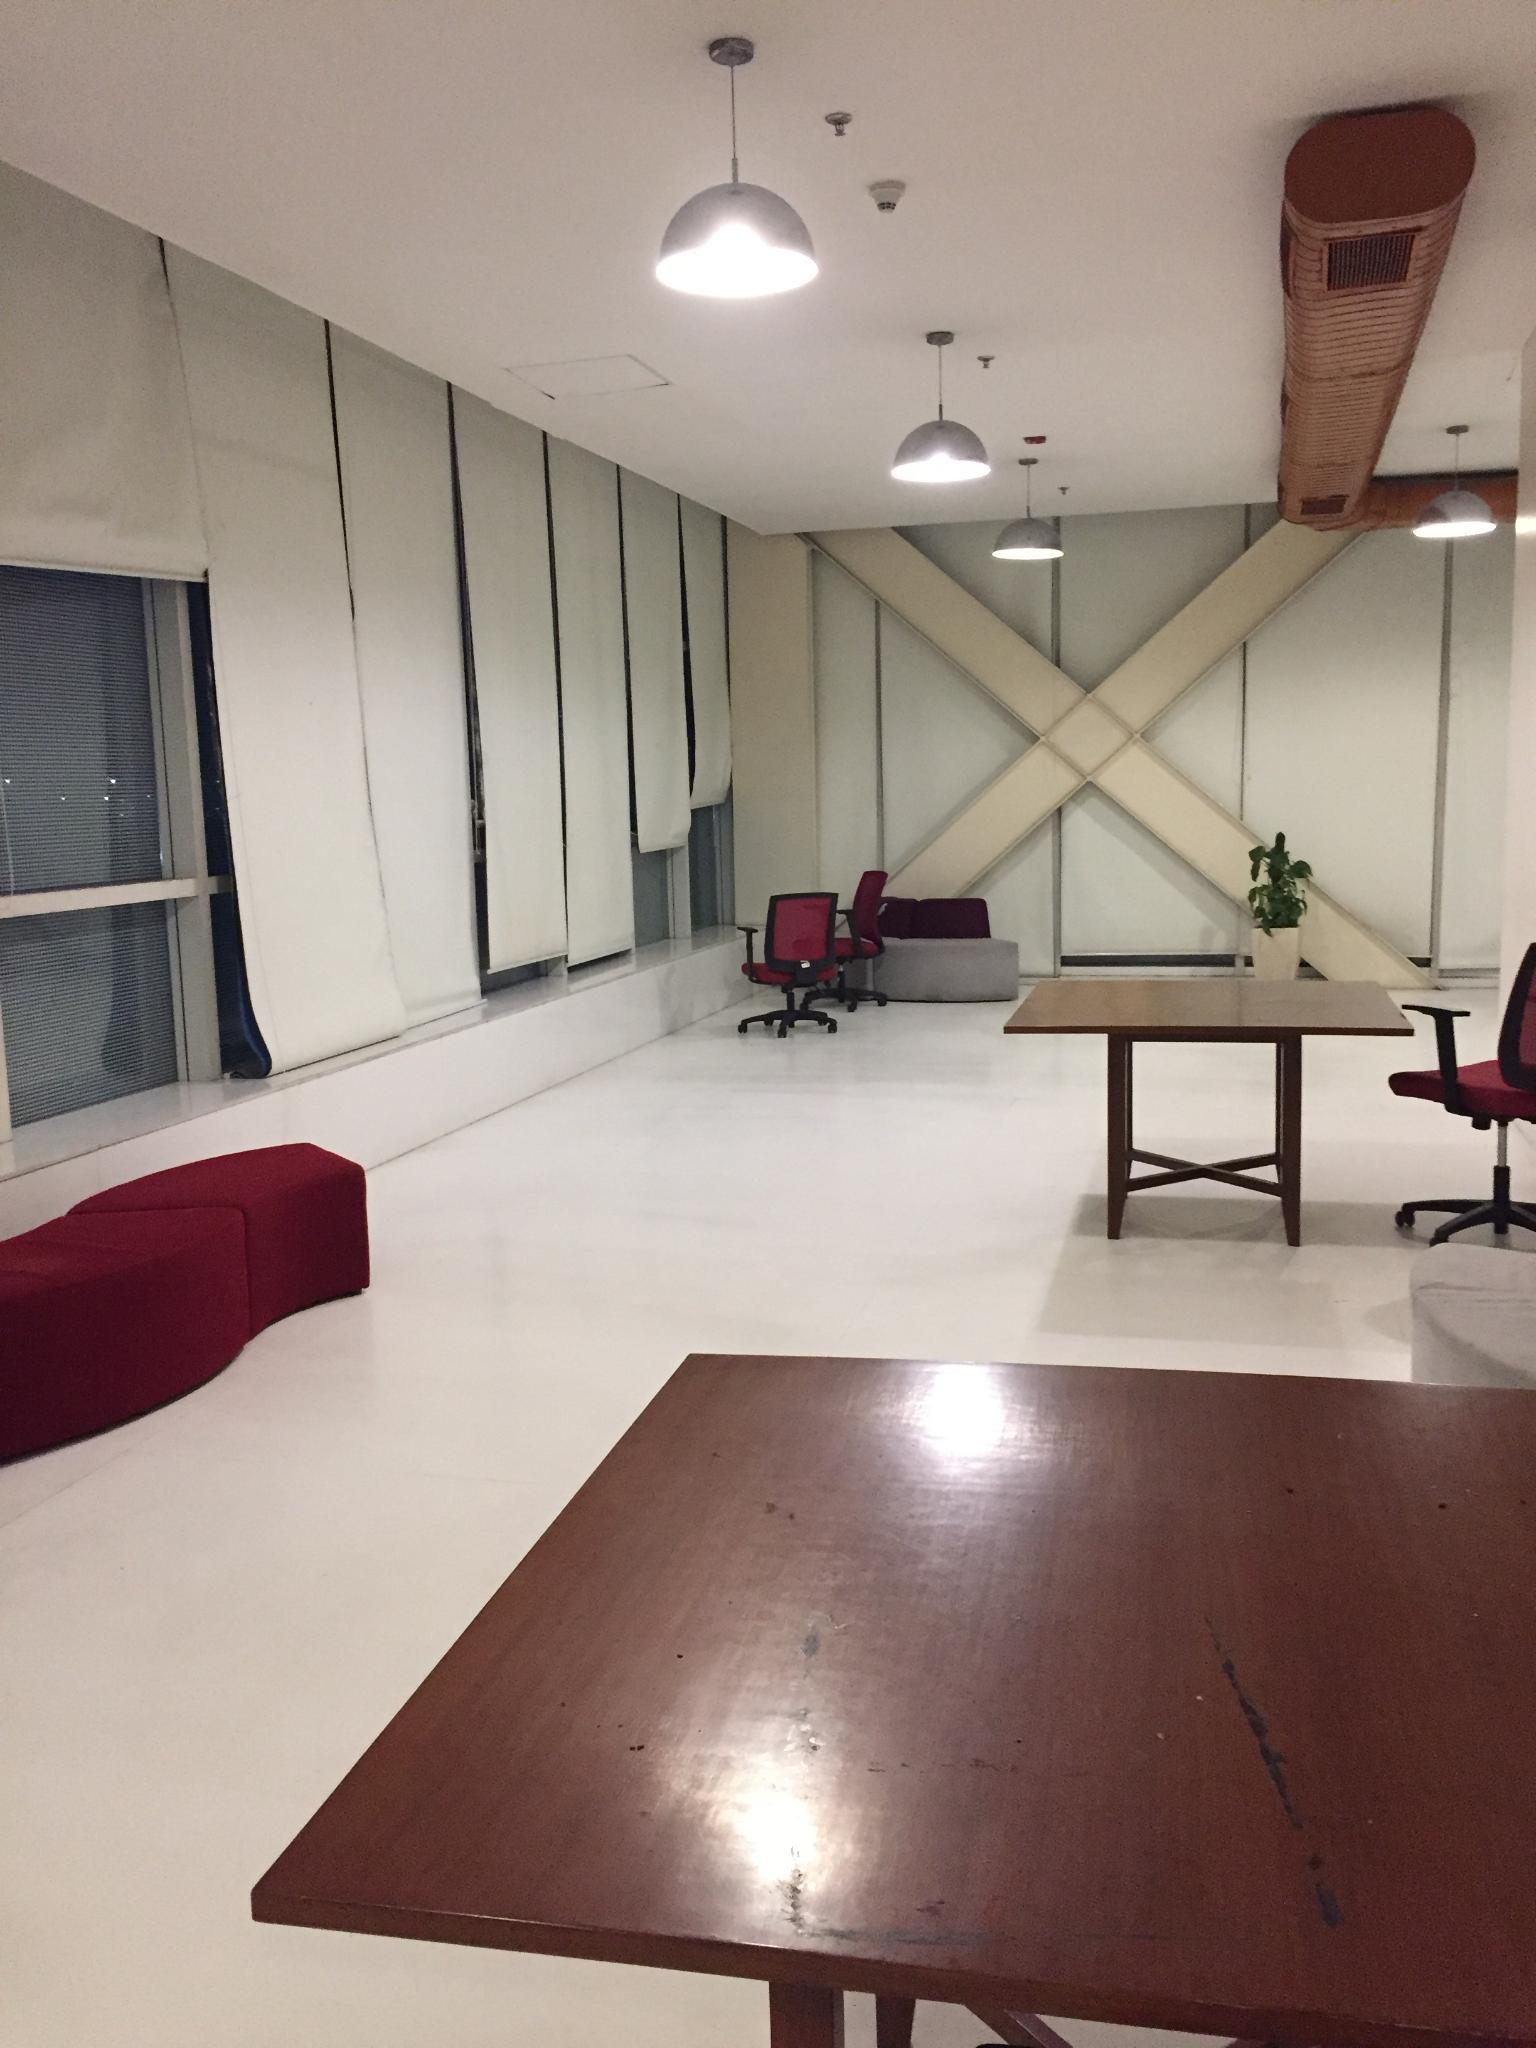chair: (1388, 942, 1534, 1247), (736, 892, 842, 1037), (828, 869, 889, 1011)
